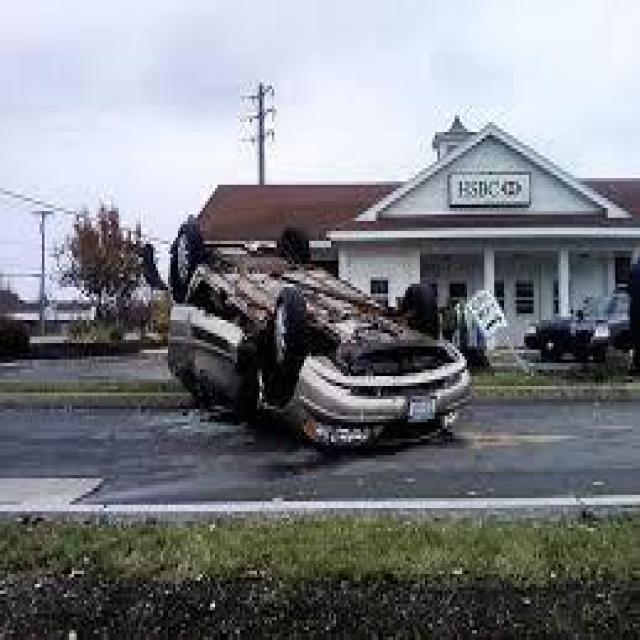severe: (162, 208, 471, 458)
